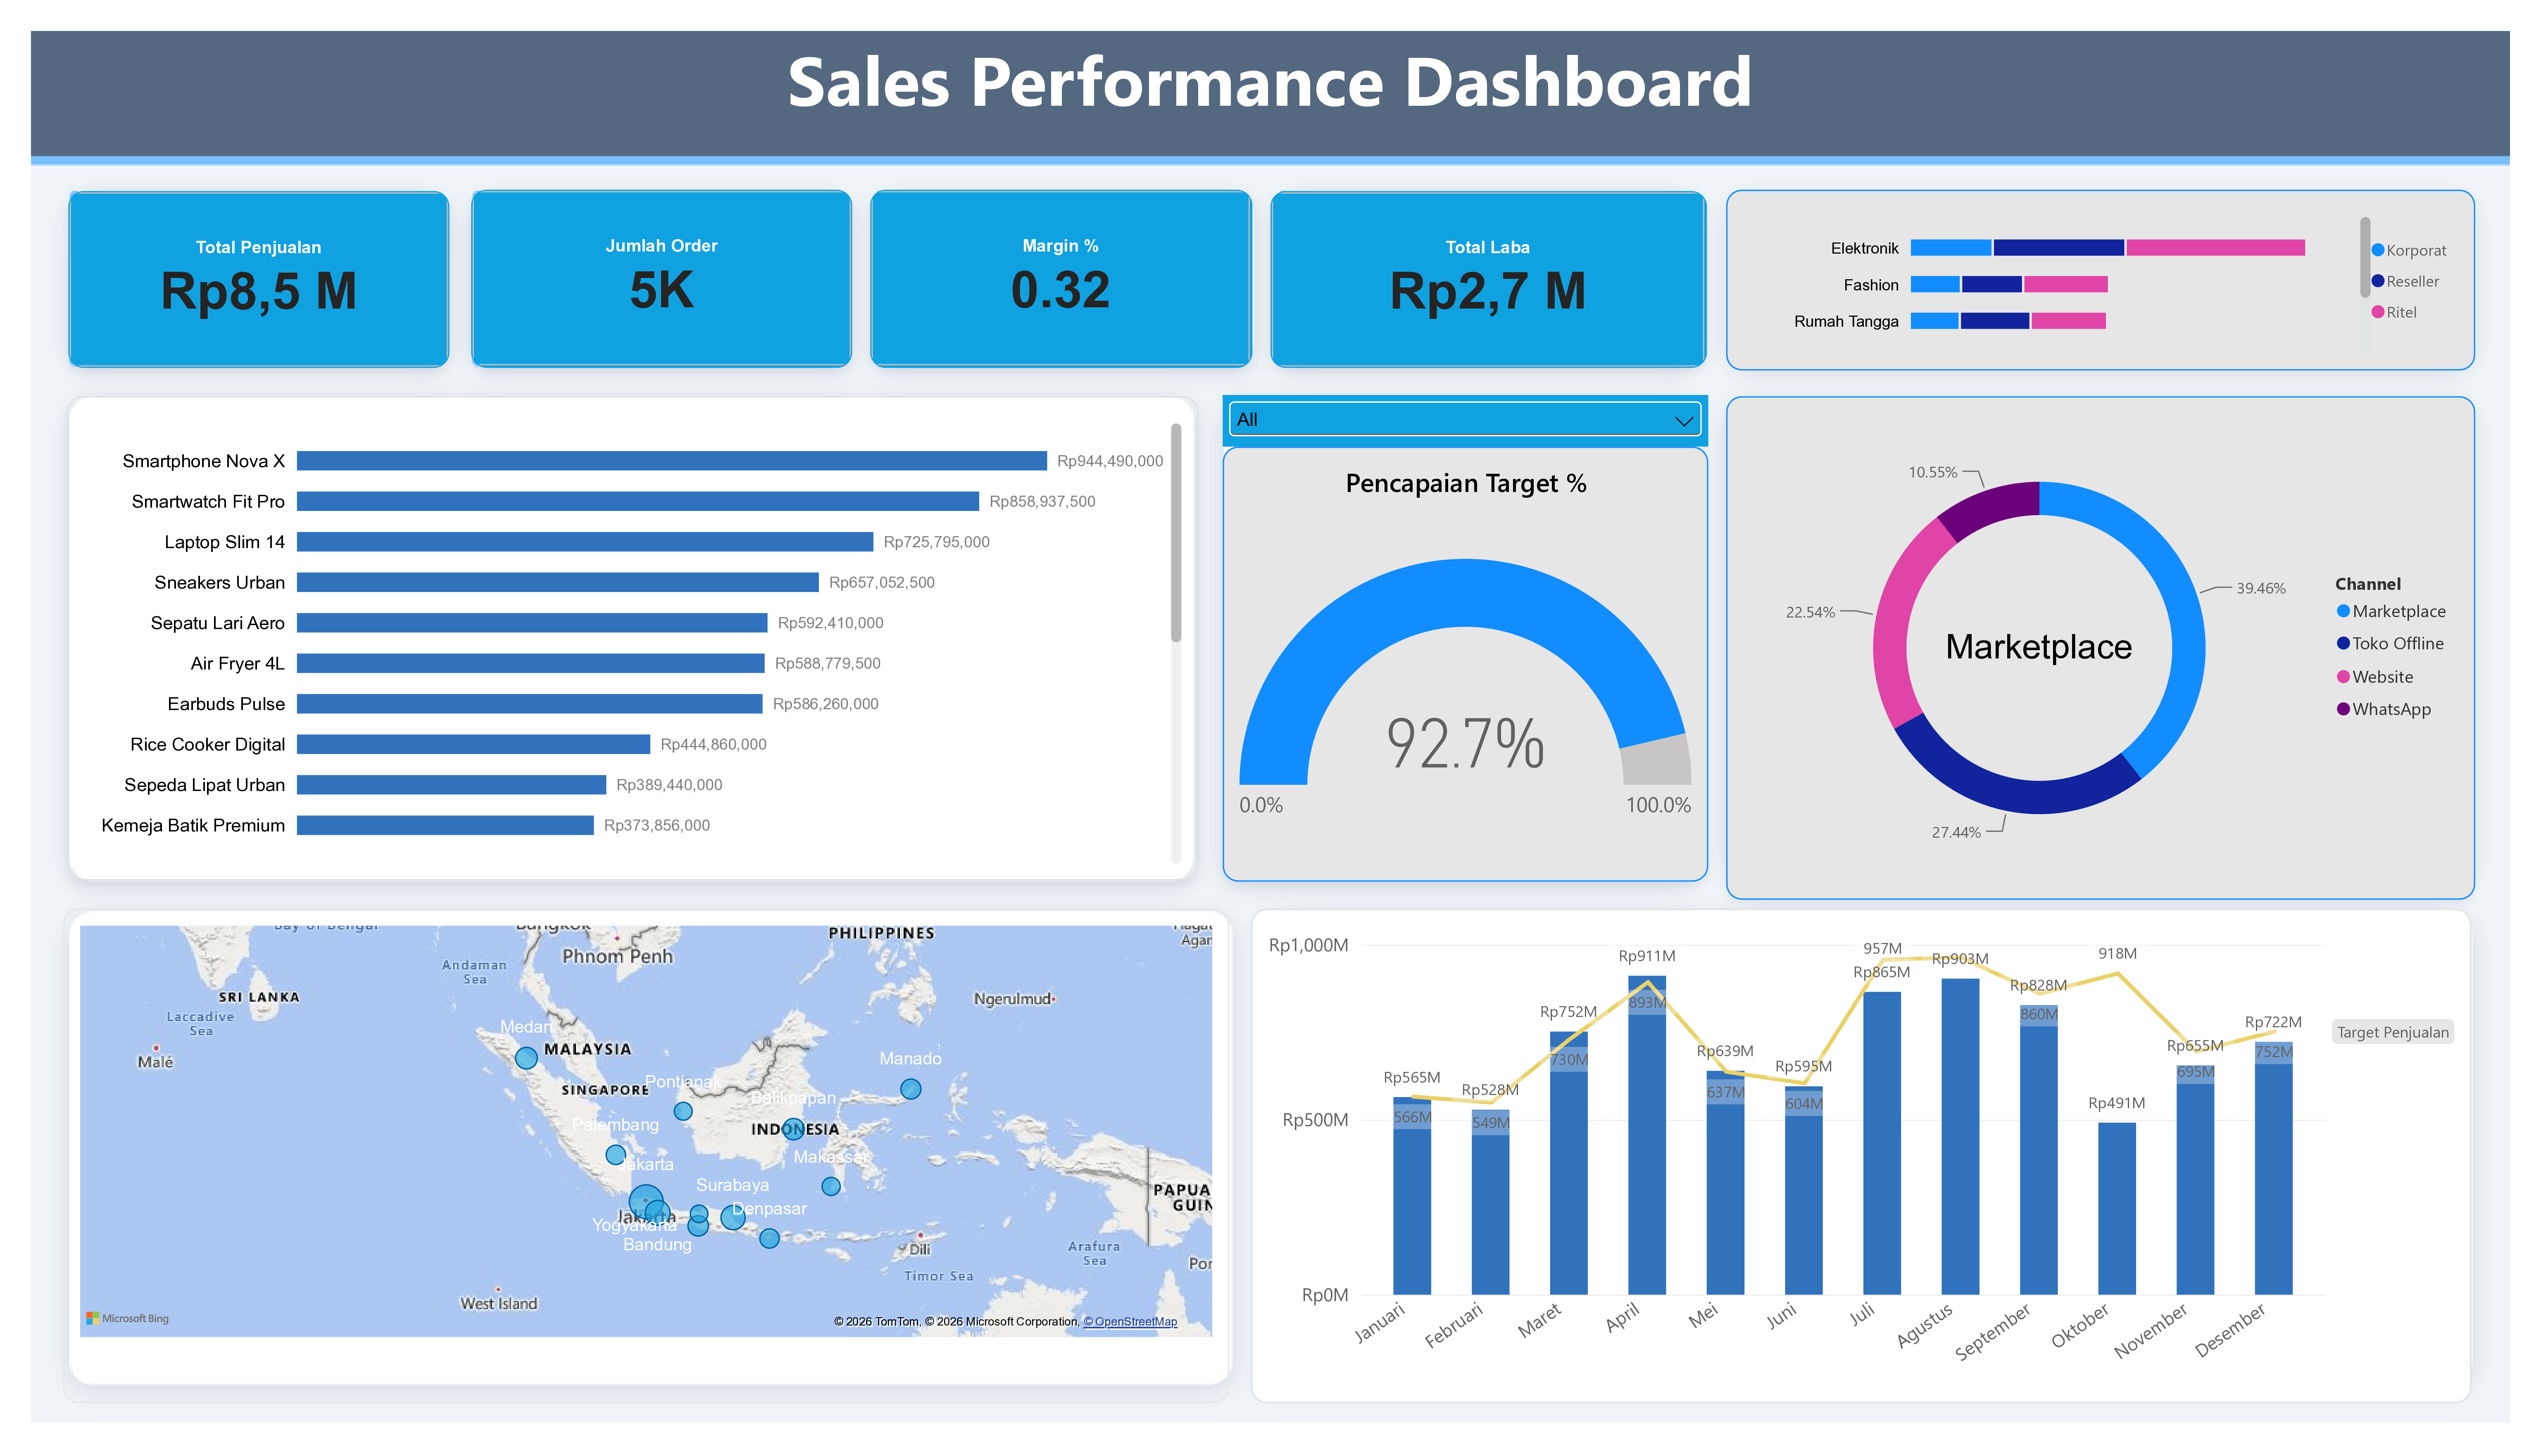

What the dashboard file says about the page in this screenshot:
{"tool":"powerbi","page":{"name":"Page 1","canvas":[1920,1080],"ordinal":0},"visuals":[{"type":"cardVisual","fields":{"Data":["_Ukuran.Total Penjualan Label"]},"box":[28.6,123.6,295.7,137.9],"z":0},{"type":"lineClusteredColumnComboChart","title":"Total Penjualan and Target Penjualan","fields":{"Category":["Dim_Kalender.Nama_Bulan"],"Y":["_Ukuran.Total Penjualan"],"Y2":["_Ukuran.Target Penjualan"]},"box":[945,680,945,382.5],"z":1000},{"type":"map","fields":{"Category":["Dim_Wilayah.Kota"],"Size":["_Ukuran.Total Penjualan"]},"box":[25,680,902.5,382.5],"z":2000},{"type":"clusteredBarChart","title":"Total Penjualan","fields":{"Category":["Dim_Produk.Nama_Produk"],"Y":["_Ukuran.Total Penjualan"]},"box":[28.2,282.7,875.5,375.5],"z":3000},{"type":"donutChart","fields":{"Category":["Fakta_Penjualan.Channel"],"Y":["_Ukuran.Total Penjualan"]},"box":[1312.5,282.5,580,390],"z":4000},{"type":"barChart","fields":{"Category":["Dim_Produk.Kategori"],"Series":["Dim_Pelanggan.Segmen"],"Y":["Sum(Fakta_Penjualan.Total_Penjualan)"]},"box":[1312.5,122.5,580,140],"z":5000},{"type":"cardVisual","fields":{"Data":["_Ukuran.Jumlah Order"]},"box":[340.7,123.3,295.7,137.9],"z":6000},{"type":"cardVisual","fields":{"Data":["_Ukuran.Margin %"]},"box":[650,123.3,295.7,137.9],"z":7000},{"type":"cardVisual","fields":{"Data":["_Ukuran.Total Laba Label"]},"box":[960,123.8,337.5,137.5],"z":8000},{"type":"slicer","title":"Tahun & Kuartal","fields":{"Values":["Dim_Kalender.Tahun","Dim_Kalender.Kuartal"]},"box":[923.3,282.2,375.6,40],"z":9000},{"type":"gauge","fields":{"Y":["_Ukuran.Pencapaian Target %"]},"box":[923.3,322.2,375.6,336.7],"z":10000},{"type":"textbox","box":[0,0,1920,96.7],"z":11000}]}

Visuals, with their boxes on the page's 1920x1080 design canvas (x1, y1, x2, y2). These are canvas units, not pixel positions in the 2541x1456 screenshot, which may show the page scaled, cropped or inside an application window:
cardVisual - _Ukuran.Total Penjualan Label: pyautogui.locateOnScreen(29, 124, 324, 262)
"Total Penjualan and Target Penjualan" lineClusteredColumnComboChart: pyautogui.locateOnScreen(945, 680, 1890, 1062)
map - Dim_Wilayah.Kota x _Ukuran.Total Penjualan: pyautogui.locateOnScreen(25, 680, 928, 1062)
"Total Penjualan" clusteredBarChart: pyautogui.locateOnScreen(28, 283, 904, 658)
donutChart - Fakta_Penjualan.Channel x _Ukuran.Total Penjualan: pyautogui.locateOnScreen(1312, 282, 1892, 672)
barChart - Dim_Produk.Kategori x Dim_Pelanggan.Segmen: pyautogui.locateOnScreen(1312, 122, 1892, 262)
cardVisual - _Ukuran.Jumlah Order: pyautogui.locateOnScreen(341, 123, 636, 261)
cardVisual - _Ukuran.Margin %: pyautogui.locateOnScreen(650, 123, 946, 261)
cardVisual - _Ukuran.Total Laba Label: pyautogui.locateOnScreen(960, 124, 1298, 261)
"Tahun & Kuartal" slicer: pyautogui.locateOnScreen(923, 282, 1299, 322)
gauge - _Ukuran.Pencapaian Target %: pyautogui.locateOnScreen(923, 322, 1299, 659)
textbox: pyautogui.locateOnScreen(0, 0, 1920, 97)
